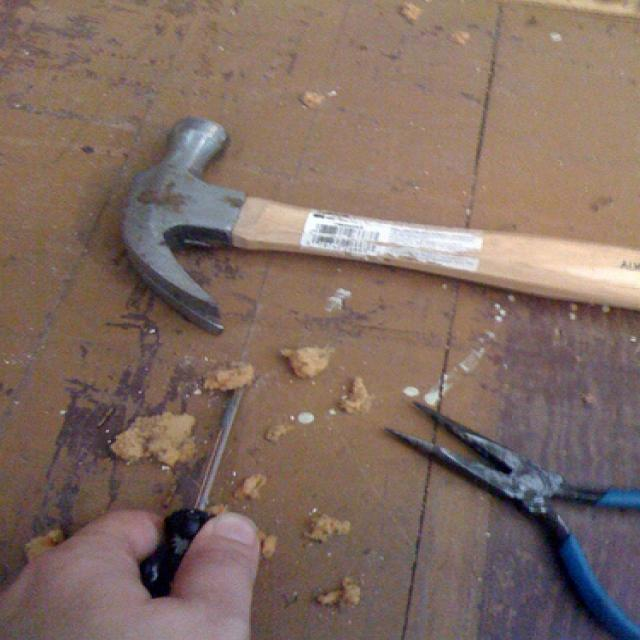hammer: (82, 104, 640, 396)
pliers: (383, 381, 640, 640), (129, 382, 267, 616)
